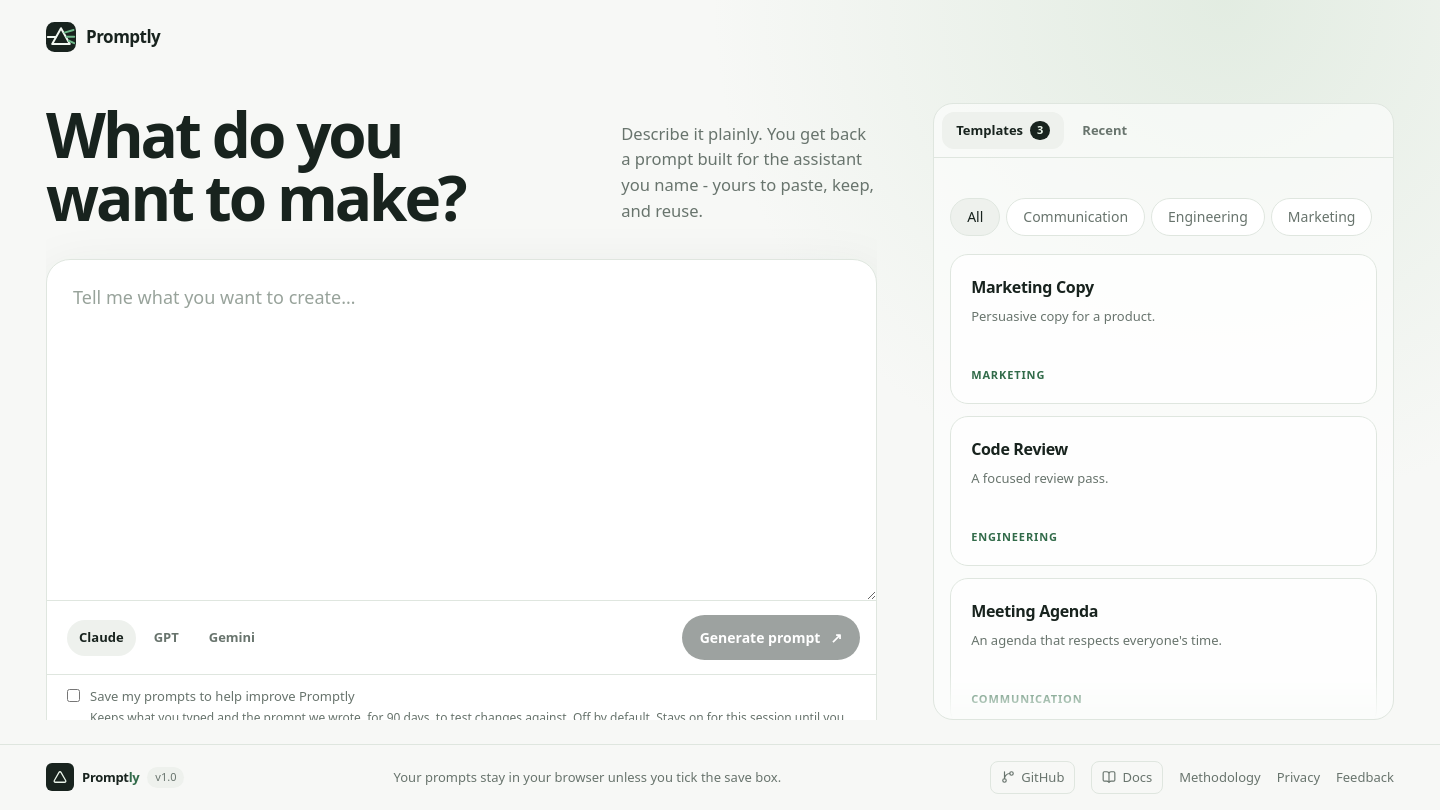
Test: template picker › renders a template it has never seen before, with no code change
Step 1. Click the button "Meeting Agenda" → (1035,611), box [950,578,1377,728]
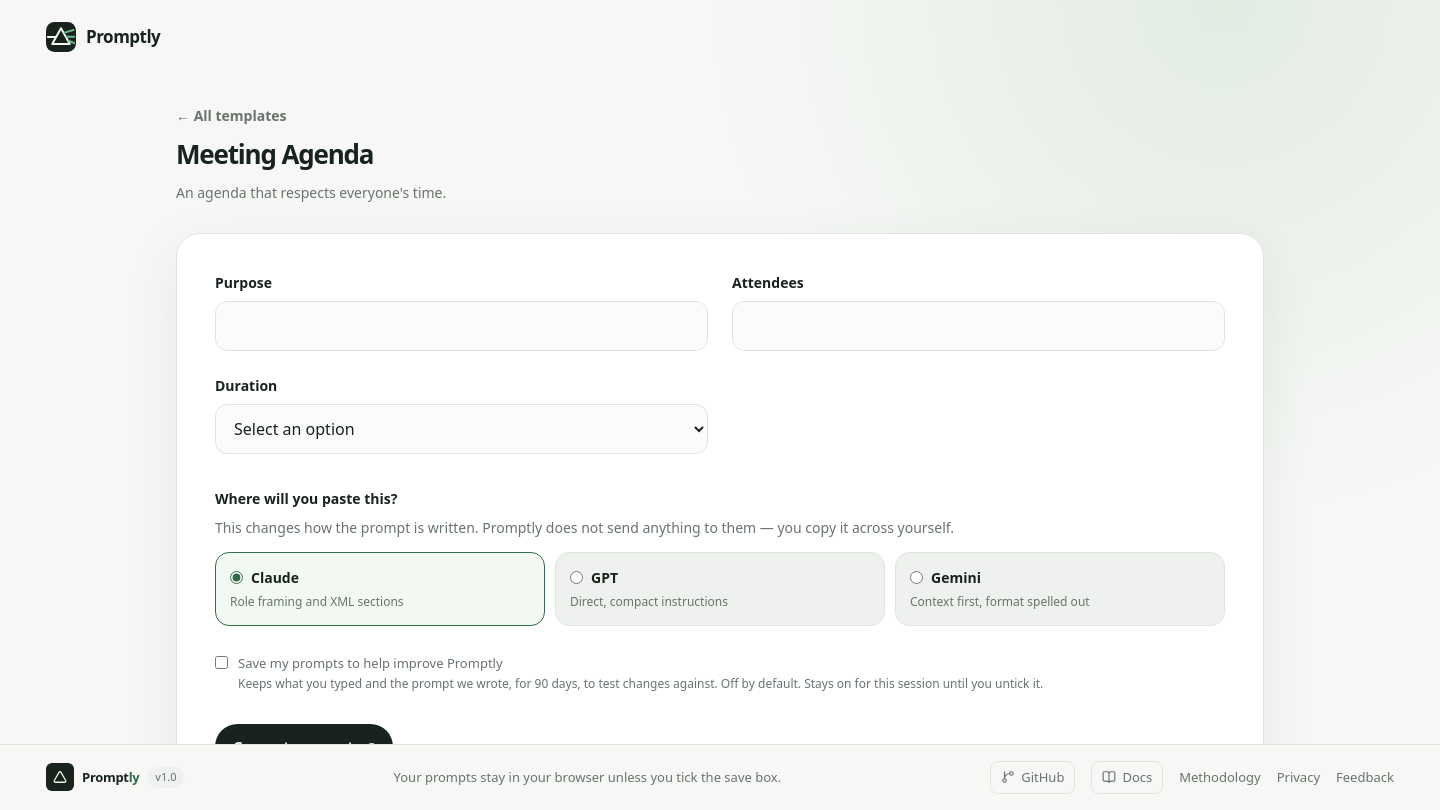
Expected: the field labelled "Purpose" is shown, [215,301,708,351]
Expected: the field labelled "Attendees" is shown, [732,301,1225,351]
Expected: the dropdown labelled "Duration" is shown, [215,404,708,454]
